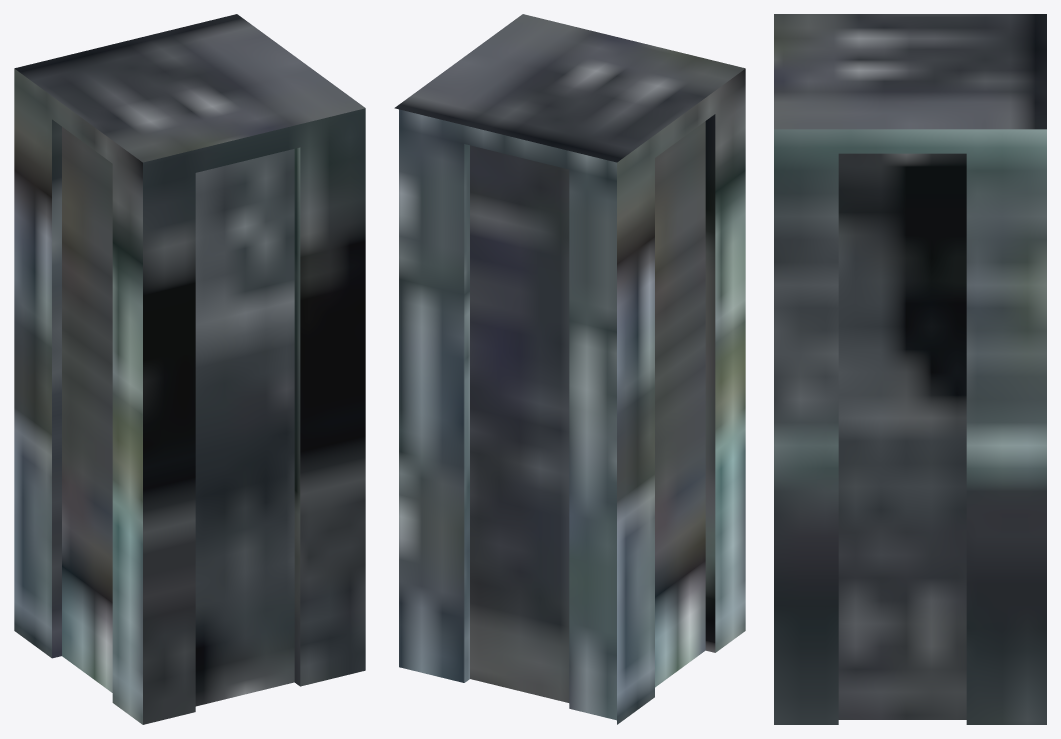
File: night-4.glb
3 renders of one model, left to right at view 1: azimuth 30°, elevation 25°; view 2: azimuth 150°, elevation 25°; view 3: azimuth 270°, elevation 25°, orthographic. The views are drawn at different scales.
Size of the model in its own units: 2.19 by 5.28 by 2.19.
1 material, 1 textured.
